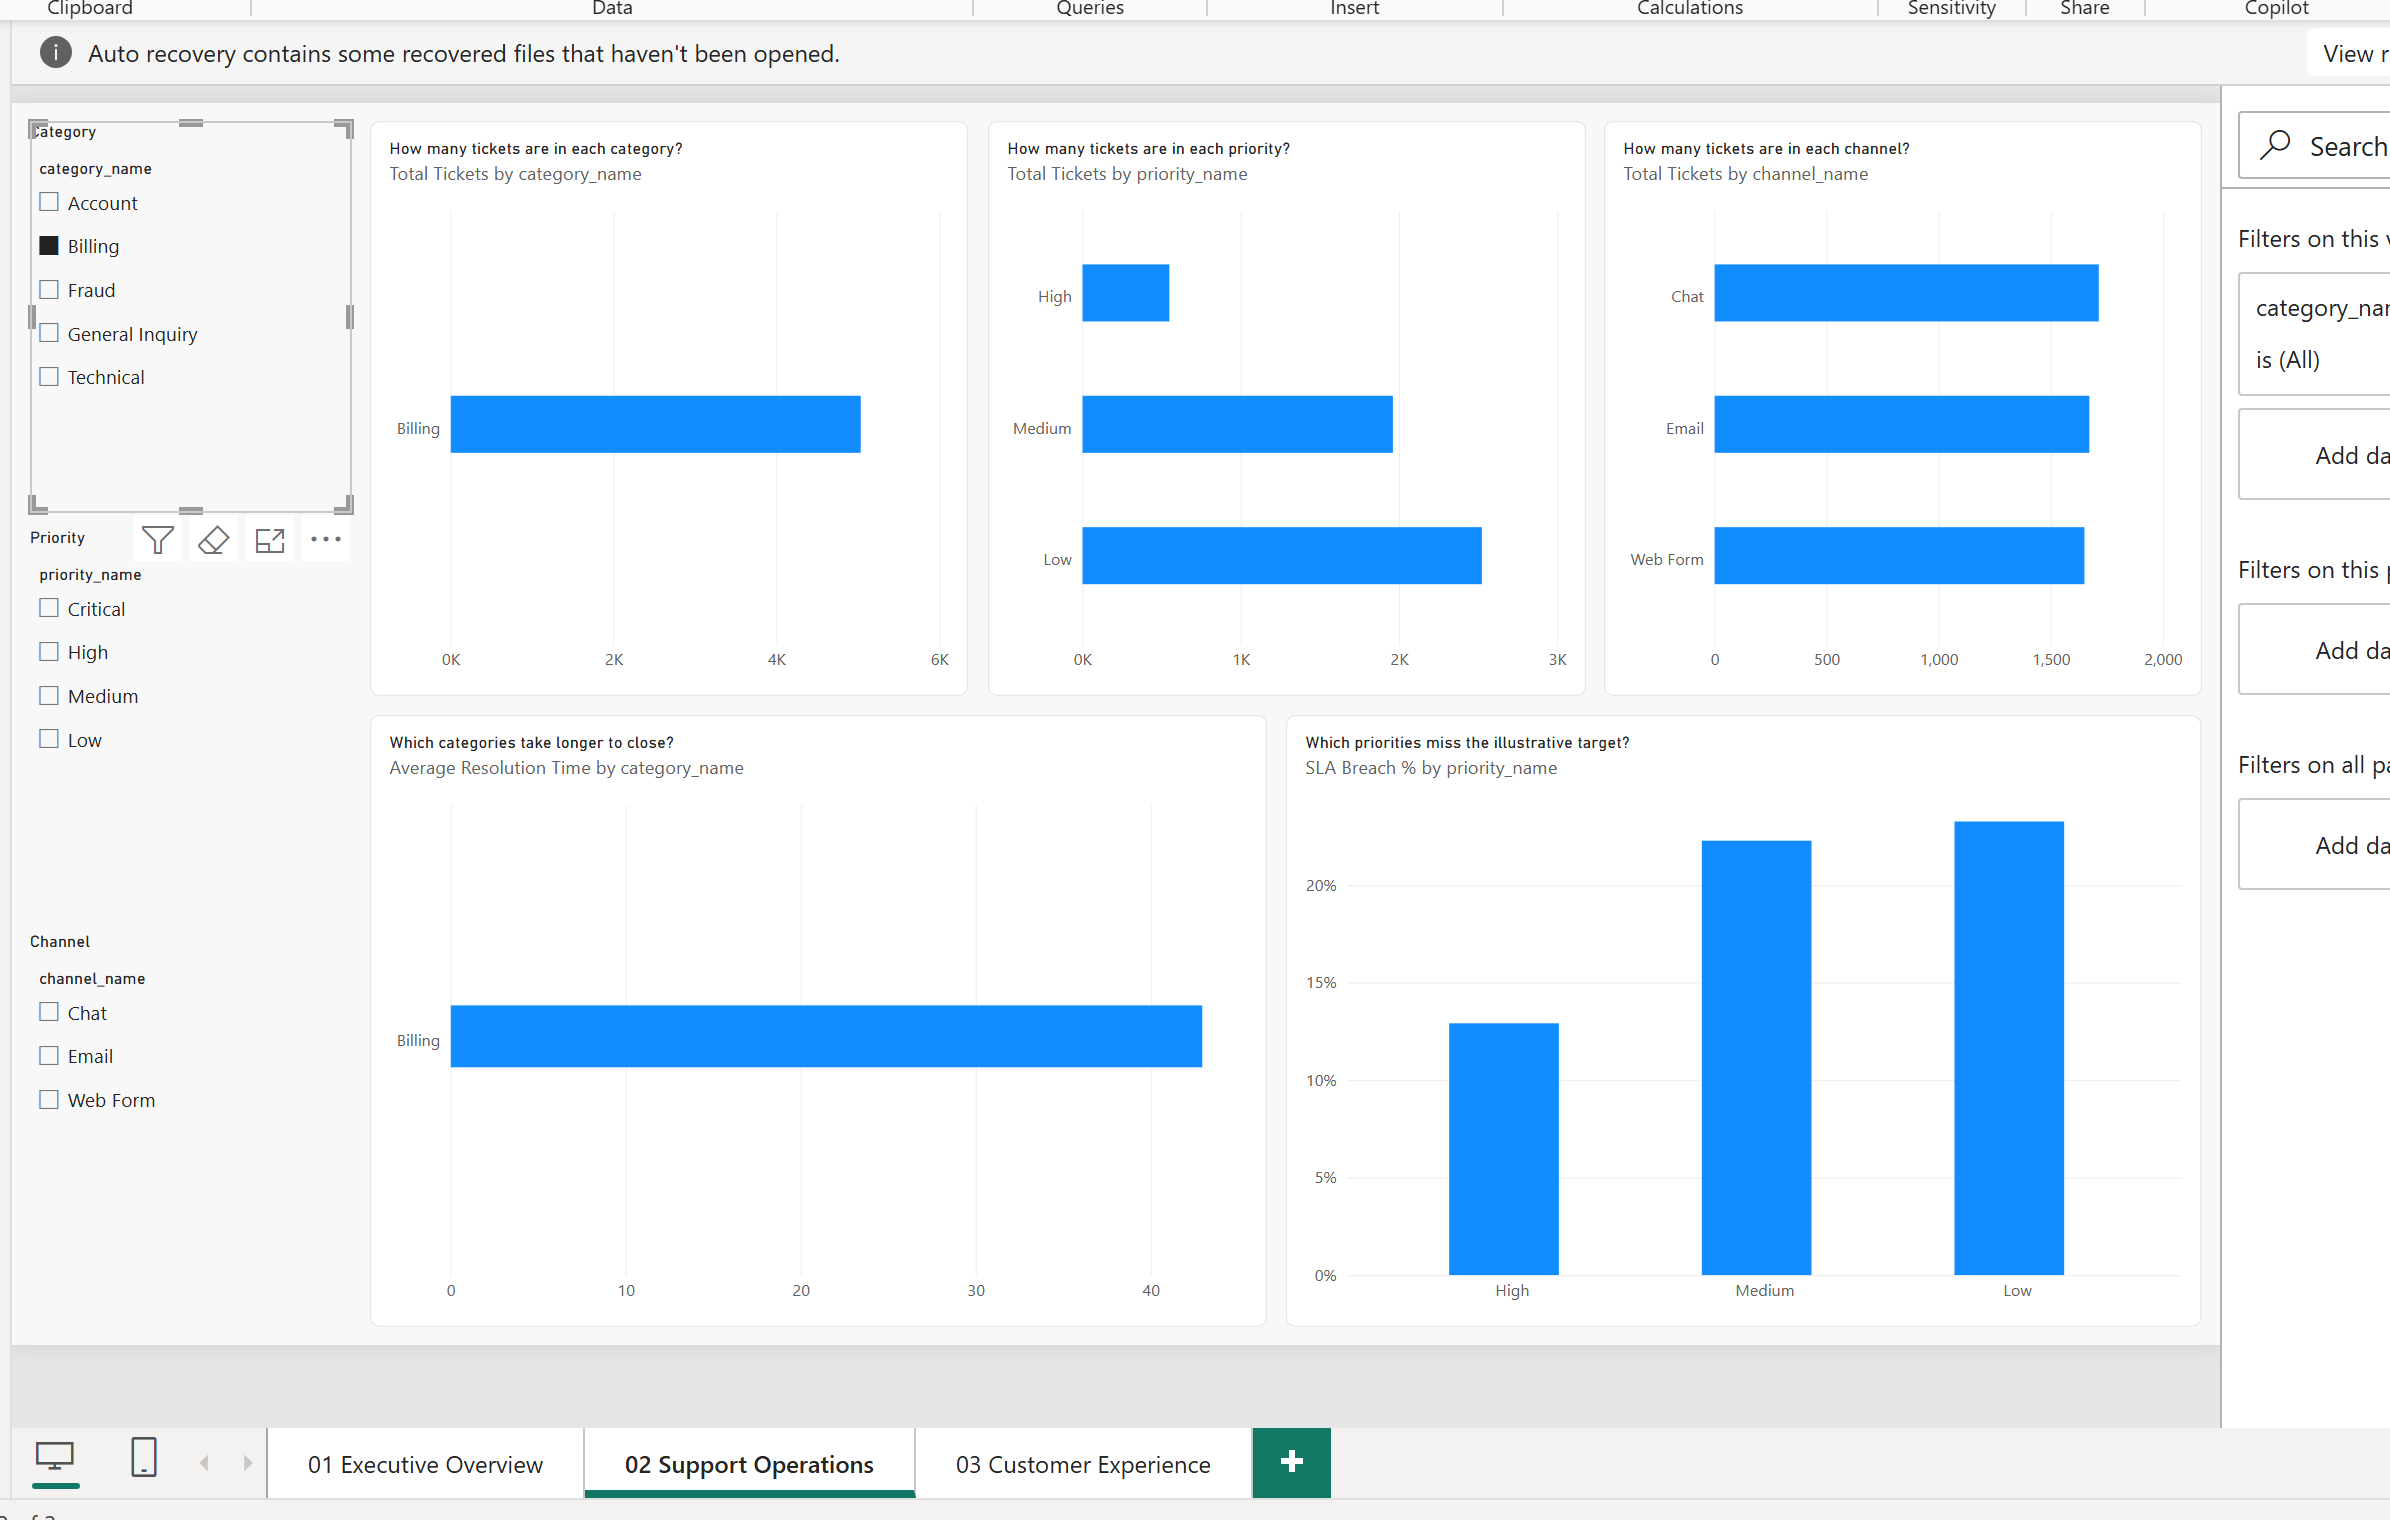

What the dashboard file says about the page in this screenshot:
{"tool":"powerbi","page":{"name":"02 Support Operations","canvas":[1920,1080],"ordinal":1},"visuals":[{"type":"slicer","title":"Category","fields":{"Values":["dim_category.category_name"]},"box":[16,16,280,340],"z":0},{"type":"slicer","title":"Priority","fields":{"Values":["dim_priority.priority_name"]},"box":[16,368,280,340],"z":1},{"type":"slicer","title":"Channel","fields":{"Values":["dim_channel.channel_name"]},"box":[16,720,280,344],"z":2},{"type":"clusteredBarChart","title":"How many tickets are in each category?","fields":{"Category":["dim_category.category_name"],"Y":["fact_tickets.Total Tickets"]},"box":[312,16,520,500],"z":3},{"type":"clusteredBarChart","title":"How many tickets are in each priority?","fields":{"Category":["dim_priority.priority_name"],"Y":["fact_tickets.Total Tickets"]},"box":[848,16,520,500],"z":4},{"type":"clusteredBarChart","title":"How many tickets are in each channel?","fields":{"Category":["dim_channel.channel_name"],"Y":["fact_tickets.Total Tickets"]},"box":[1384,16,520,500],"z":5},{"type":"clusteredBarChart","title":"Which categories take longer to close?","fields":{"Category":["dim_category.category_name"],"Y":["fact_tickets.Average Resolution Time"]},"box":[312,532,780,532],"z":6},{"type":"clusteredColumnChart","title":"Which priorities miss the illustrative target?","fields":{"Category":["dim_priority.priority_name"],"Y":["fact_tickets.SLA Breach %"]},"box":[1108,532,796,532],"z":7}]}

Visuals, with their boxes on the page's 1920x1080 design canvas (x1, y1, x2, y2). These are canvas units, not pixel positions in the 2390x1520 screenshot, which may show the page scaled, cropped or inside an application window:
"Category" slicer: [16, 16, 296, 356]
"Priority" slicer: [16, 368, 296, 708]
"Channel" slicer: [16, 720, 296, 1064]
"How many tickets are in each category?" clusteredBarChart: [312, 16, 832, 516]
"How many tickets are in each priority?" clusteredBarChart: [848, 16, 1368, 516]
"How many tickets are in each channel?" clusteredBarChart: [1384, 16, 1904, 516]
"Which categories take longer to close?" clusteredBarChart: [312, 532, 1092, 1064]
"Which priorities miss the illustrative target?" clusteredColumnChart: [1108, 532, 1904, 1064]
